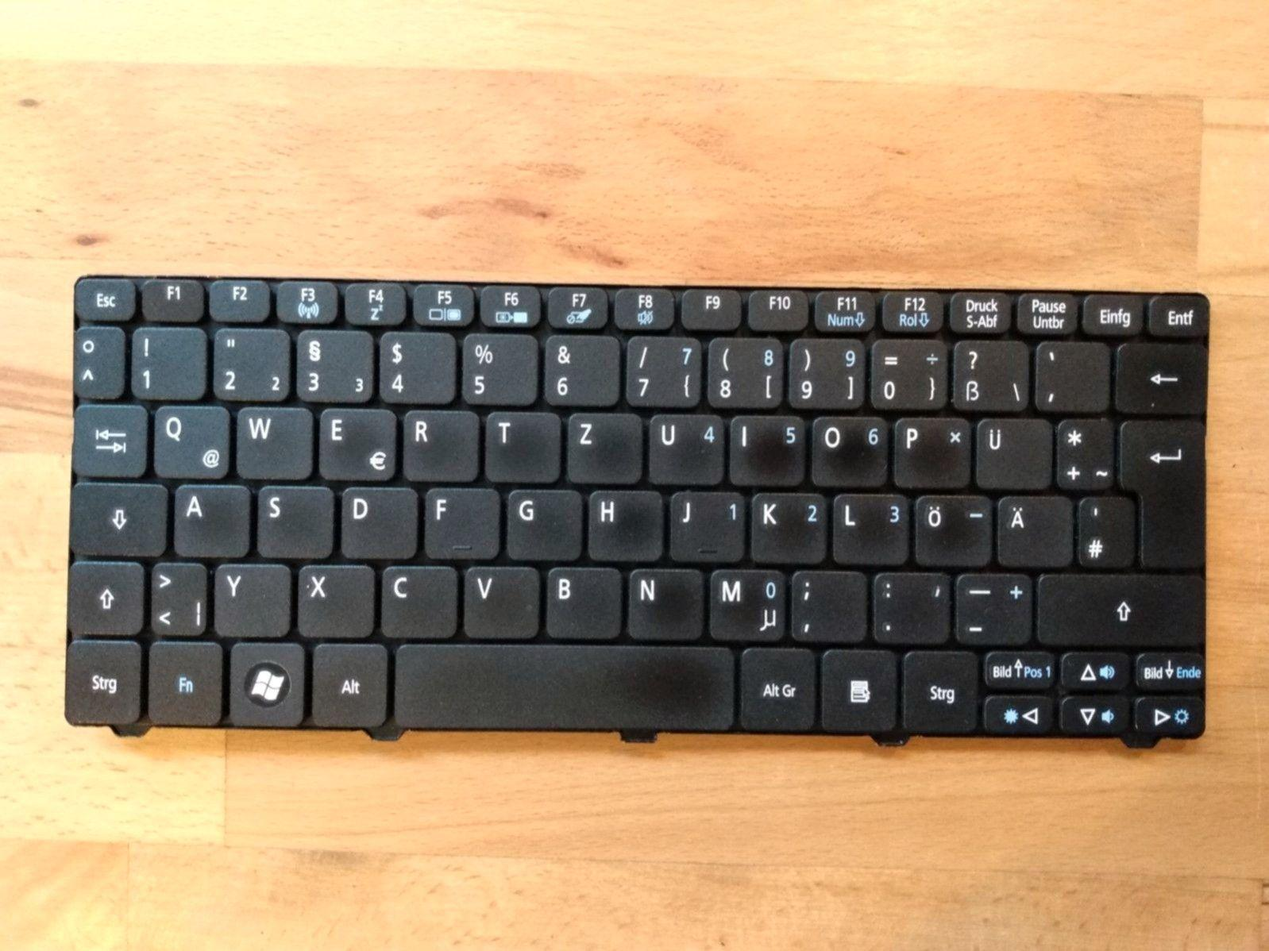0: (870, 337, 947, 413)
1: (129, 326, 208, 402)
2: (211, 326, 292, 402)
3: (294, 328, 376, 403)
4: (378, 329, 457, 404)
5: (460, 332, 539, 406)
6: (542, 333, 620, 407)
7: (625, 334, 701, 410)
8: (706, 336, 783, 410)
9: (788, 336, 865, 413)
a: (172, 483, 251, 558)
accent: (1032, 340, 1110, 413)
ae: (996, 493, 1074, 570)
alt-left: (310, 641, 388, 727)
altgr-right: (739, 646, 817, 730)
b: (542, 565, 623, 640)
c: (378, 564, 460, 640)
caret: (71, 324, 125, 400)
comma: (789, 569, 867, 643)
d: (338, 484, 418, 562)
del: (1113, 342, 1208, 414)
e: (316, 407, 399, 483)
enter: (1129, 420, 1205, 572)
f: (422, 487, 500, 561)
g: (504, 487, 583, 561)
h: (586, 488, 664, 563)
hash: (1076, 494, 1133, 569)
i: (727, 414, 807, 486)
j: (667, 491, 745, 563)
k: (750, 491, 827, 565)
keyboard: (60, 270, 1214, 745)
l: (830, 491, 909, 566)
less: (150, 560, 207, 638)
m: (707, 568, 786, 642)
minus: (953, 572, 1032, 646)
n: (625, 567, 704, 641)
o: (808, 414, 890, 487)
oe: (912, 494, 993, 568)
p: (891, 415, 973, 490)
plus: (1055, 417, 1115, 491)
point: (871, 572, 950, 645)
q: (151, 403, 233, 483)
r: (400, 409, 480, 483)
s: (255, 484, 334, 560)
shift-left: (66, 560, 145, 637)
shift-lock: (68, 482, 168, 558)
shift-right: (1036, 572, 1207, 648)
space: (394, 642, 734, 730)
ss: (952, 338, 1028, 414)
strg-left: (64, 638, 143, 726)
strg-right: (901, 650, 978, 732)
t: (484, 410, 561, 483)
tab: (71, 400, 149, 479)
u: (646, 411, 726, 487)
ue: (974, 416, 1053, 491)
v: (462, 564, 540, 640)
w: (233, 404, 314, 482)
x: (296, 563, 375, 640)
y: (213, 562, 292, 639)
z: (564, 411, 643, 486)
